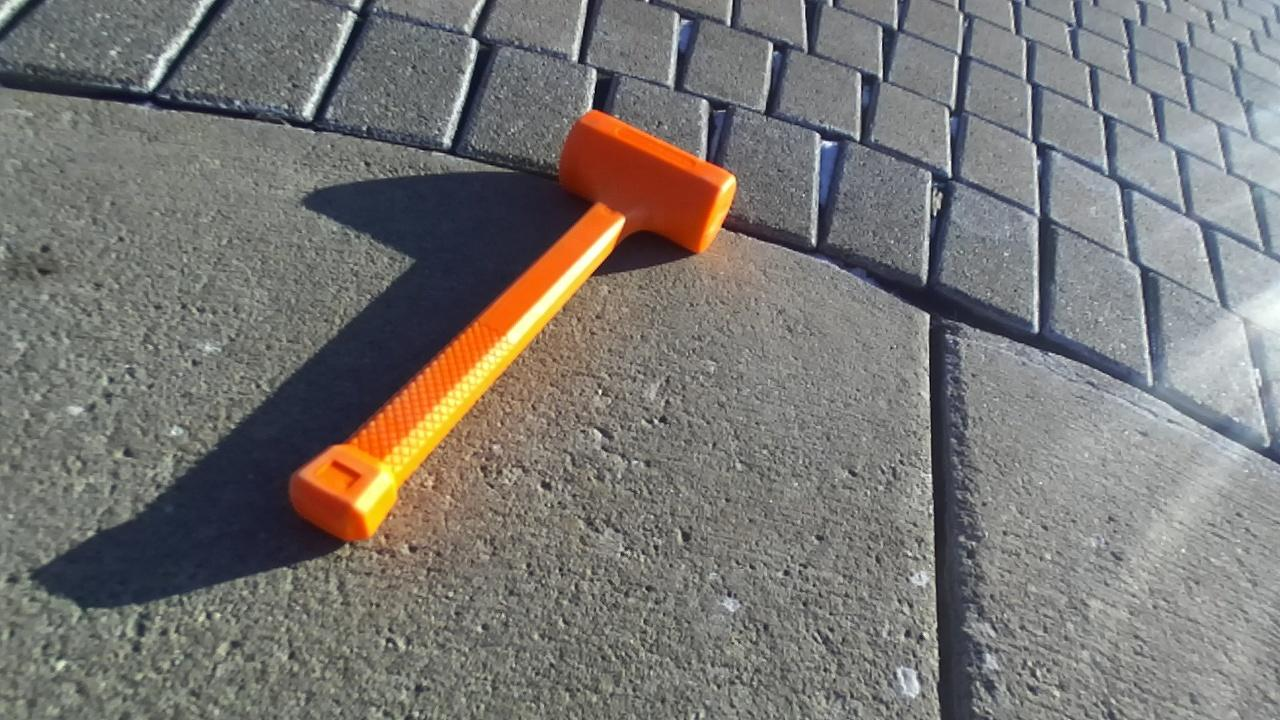mallet: (289, 110, 736, 540)
